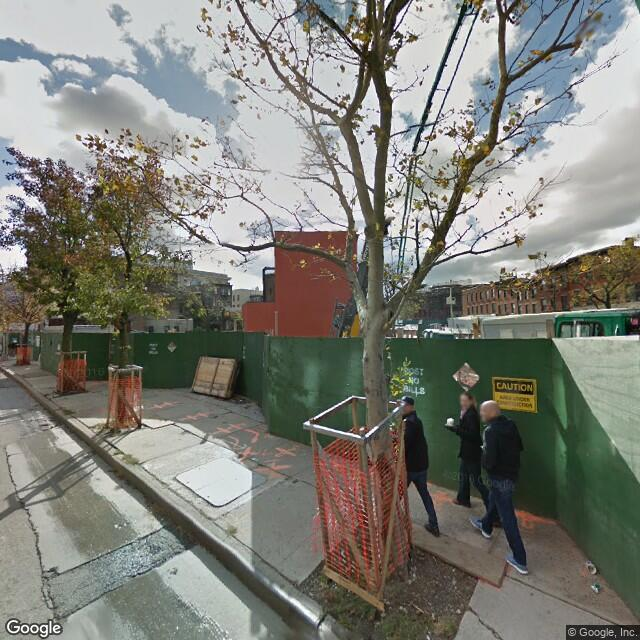litter: (576, 559, 611, 592)
